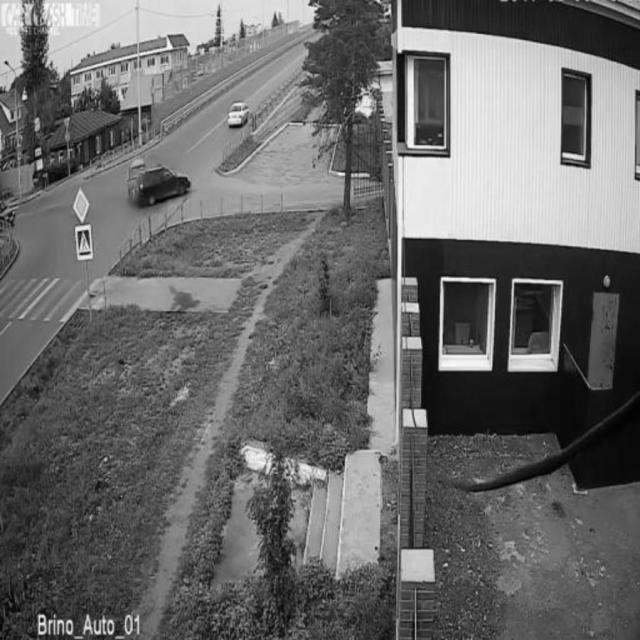accident: (127, 156, 193, 210)
vehicle: (226, 99, 250, 127)
